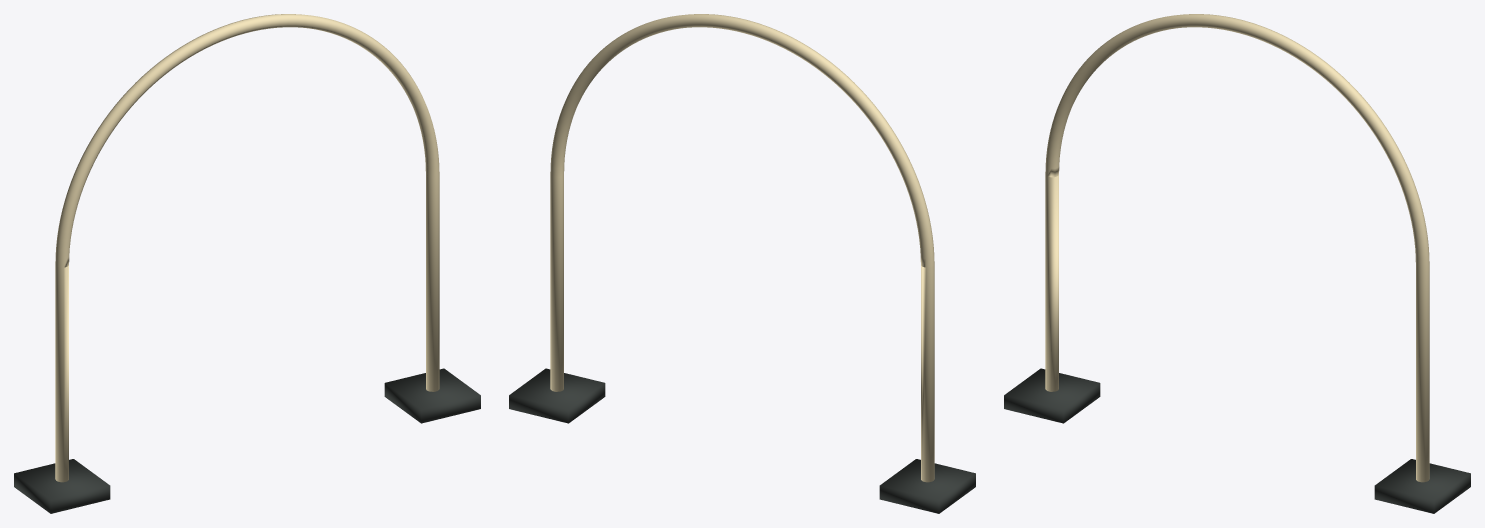
File: portal-arch.glb
3 views of the same model, side by side, from view 1: azimuth 30°, elevation 25°; view 2: azimuth 150°, elevation 25°; view 3: azimuth 330°, elevation 25° (orthographic).
Visible parts, largest first — view 1: arch-frame-0, feet-1; view 2: arch-frame-0, feet-1; view 3: arch-frame-0, feet-1.
Part boxes in pixels (x1,y1,x2,y2): arch-frame-0: (55, 14, 439, 482); feet-1: (14, 368, 480, 513); arch-frame-0: (550, 14, 934, 482); feet-1: (509, 368, 975, 513); arch-frame-0: (1045, 14, 1429, 482); feet-1: (1004, 368, 1470, 513).
Bounding box in the file's own units: 3.25 × 3.09 × 0.48.
